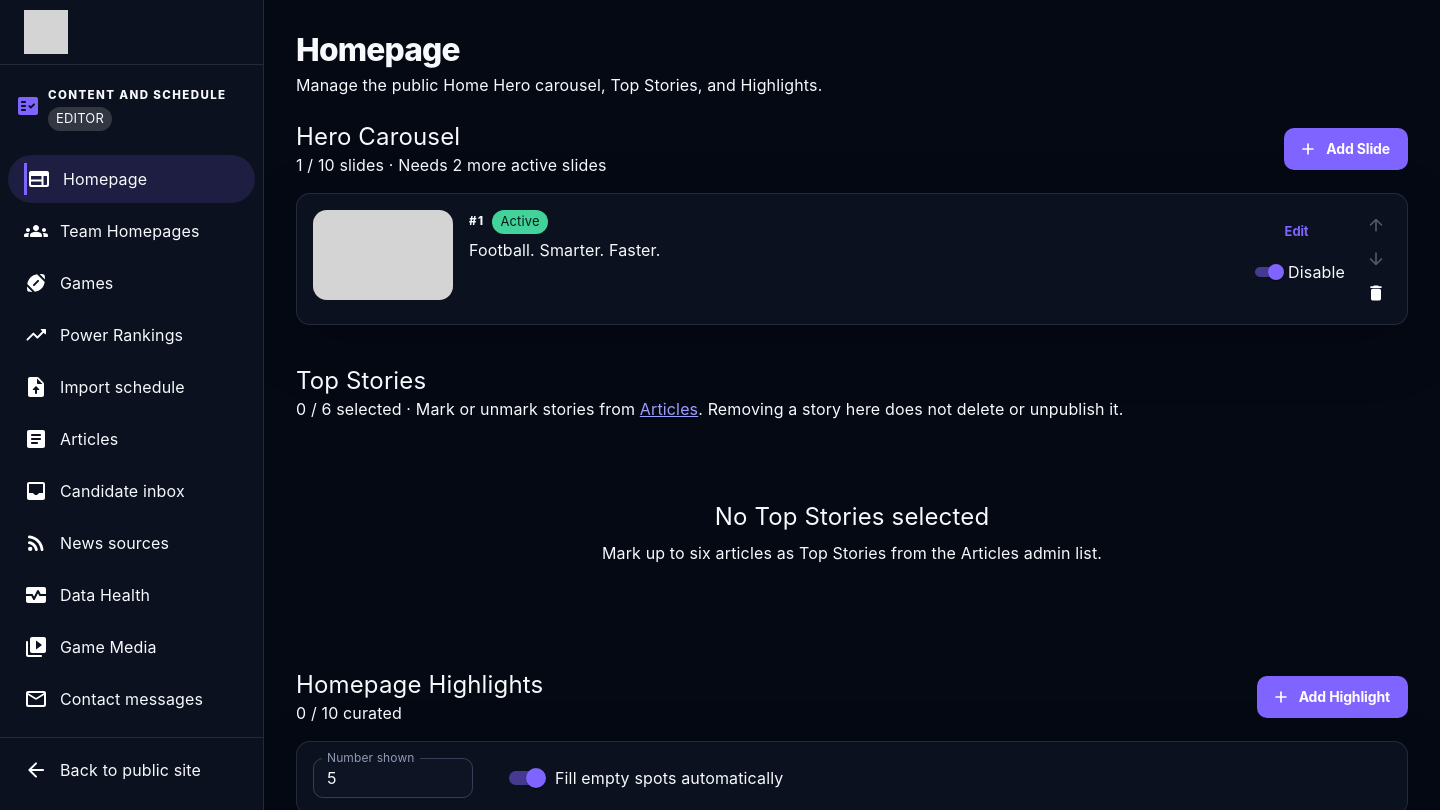
it: Admin Homepage — Highlights › adds a highlight from the candidate picker and reflects selected state
Step 1. Click the button "Add Highlight" → (1332, 697), box [1257,676,1408,718]
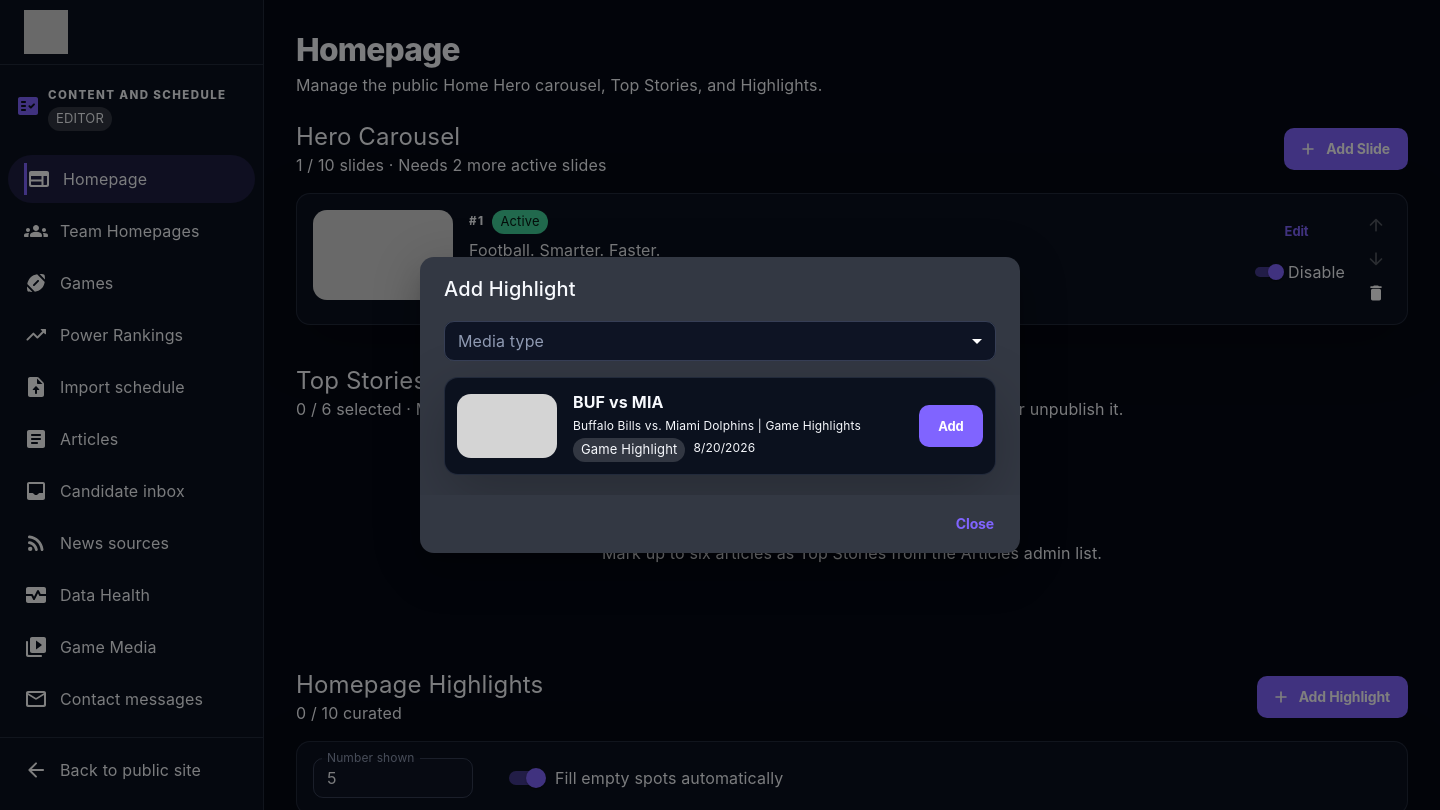
Check: the heading "Add Highlight" is shown, box [444,277,576,301]
Step 2. Click the button "Add" → (951, 426), box [919,405,983,447]
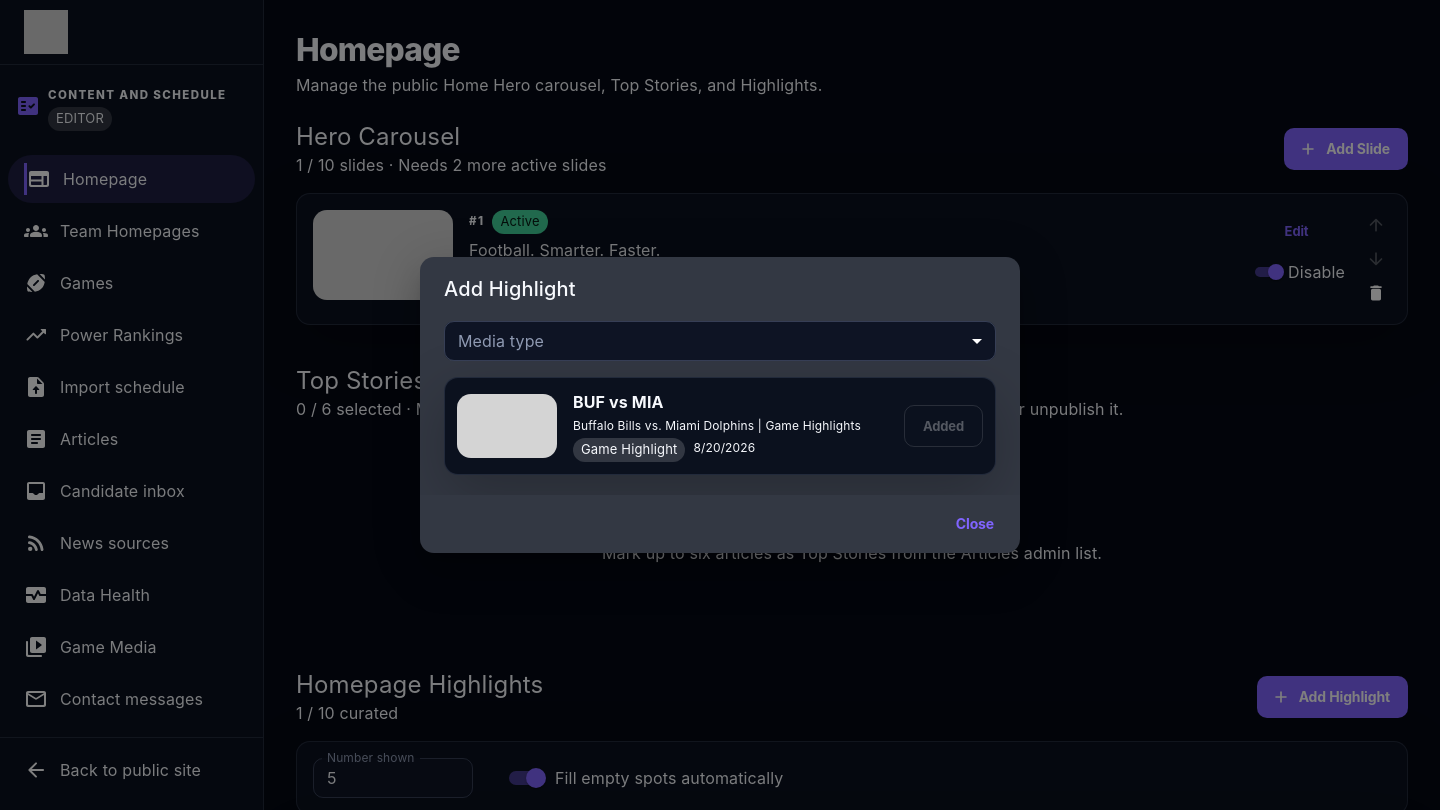
Check: the button "Added" is shown, box [904,405,983,447]
